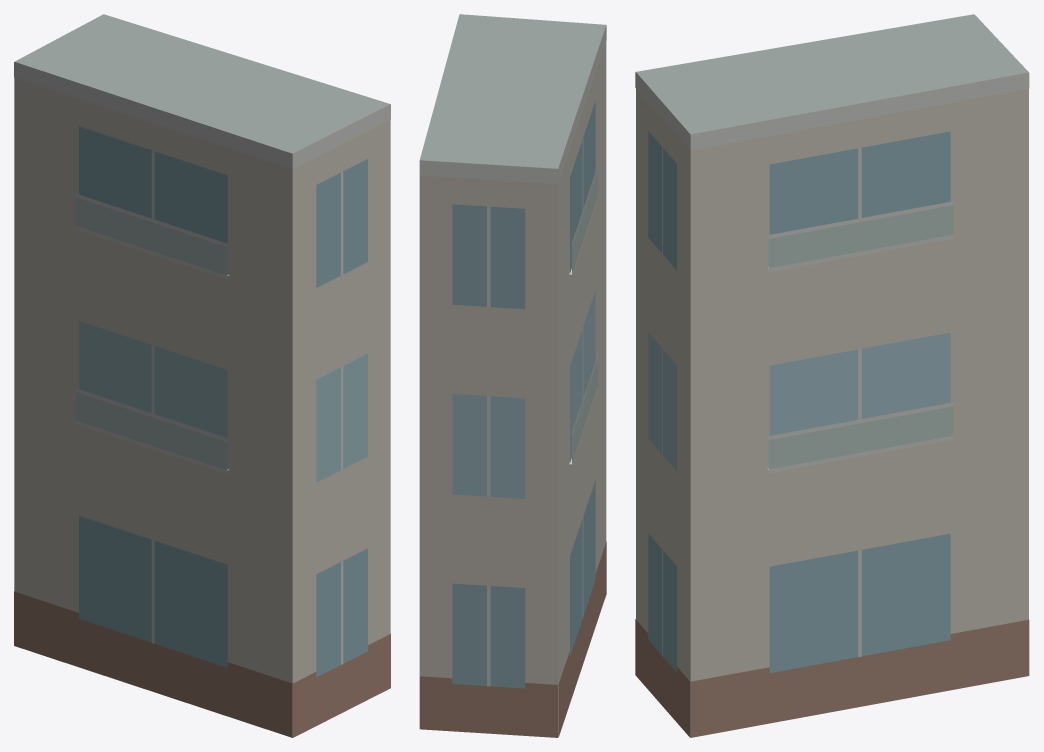
Rendered from survey-upis-32840522.glb.
3 renders of one model, left to right at view 1: azimuth 30°, elevation 25°; view 2: azimuth 150°, elevation 25°; view 3: azimuth 270°, elevation 25°, orthographic. The views are drawn at different scales.
Visible parts, largest first — view 1: survey-upis-32840522.tmp; view 2: survey-upis-32840522.tmp; view 3: survey-upis-32840522.tmp.
Part boxes in pixels (<box>): survey-upis-32840522.tmp: <box>14,14,390,737</box>; survey-upis-32840522.tmp: <box>419,14,606,737</box>; survey-upis-32840522.tmp: <box>635,14,1029,737</box>.
Bounding box in the file's own units: 3.93 × 9.15 × 5.42.
